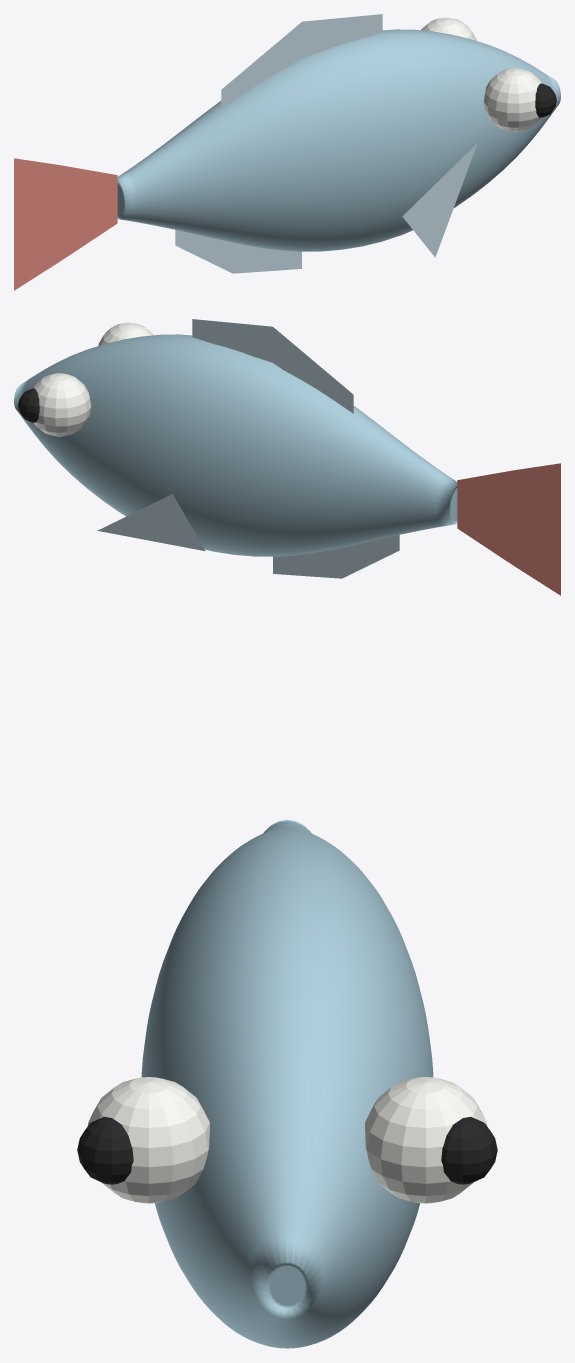
Rendered from neon.glb.
The picture shows the model from 3 angles, top to bottom: view 1: azimuth 30°, elevation 25°; view 2: azimuth 150°, elevation 25°; view 3: azimuth 270°, elevation 25°; orthographic projection. The views are drawn at different scales.
Visible parts, largest first — view 1: neon_body, neon_tail, neon_dorsal, neon_anal, neon_eyew_R, neon_pec_R, neon_eyew_L, neon_eye_R; view 2: neon_body, neon_tail, neon_dorsal, neon_anal, neon_eyew_L, neon_pec_L, neon_eyew_R, neon_eye_L; view 3: neon_body, neon_eyew_L, neon_eyew_R, neon_eye_L, neon_eye_R.
Part boxes in pixels (bbox=[...]): neon_body: bbox=[117, 29, 560, 251]; neon_tail: bbox=[14, 158, 117, 290]; neon_dorsal: bbox=[221, 14, 382, 108]; neon_anal: bbox=[175, 230, 301, 273]; neon_eyew_R: bbox=[483, 68, 541, 131]; neon_pec_R: bbox=[402, 143, 477, 257]; neon_eyew_L: bbox=[421, 17, 476, 40]; neon_eye_R: bbox=[535, 83, 556, 117]; neon_body: bbox=[14, 334, 457, 556]; neon_tail: bbox=[457, 463, 560, 595]; neon_dorsal: bbox=[192, 319, 353, 413]; neon_anal: bbox=[273, 535, 399, 578]; neon_eyew_L: bbox=[33, 373, 91, 436]; neon_pec_L: bbox=[97, 494, 205, 551]; neon_eyew_R: bbox=[98, 322, 153, 345]; neon_eye_L: bbox=[18, 388, 39, 422]; neon_body: bbox=[141, 819, 433, 1348]; neon_eyew_L: bbox=[365, 1077, 487, 1203]; neon_eyew_R: bbox=[87, 1077, 209, 1203]; neon_eye_L: bbox=[441, 1116, 497, 1184]; neon_eye_R: bbox=[77, 1116, 133, 1184].
Bounding box in the file's own units: 0.47 × 0.205 × 0.158.
